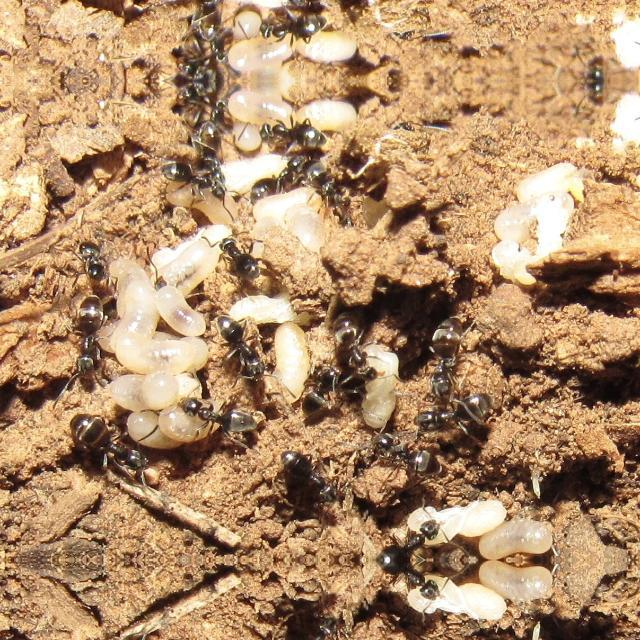Tapinoma: (58, 406, 164, 482), (54, 291, 118, 383), (412, 310, 476, 398), (268, 441, 352, 507), (204, 308, 272, 384), (170, 386, 264, 438), (303, 156, 365, 230), (408, 386, 502, 434), (324, 308, 384, 380), (367, 426, 448, 478), (172, 80, 236, 142), (172, 18, 236, 80), (156, 155, 234, 205), (368, 514, 450, 560), (368, 560, 450, 604), (208, 226, 272, 282), (292, 359, 348, 419), (247, 152, 310, 200), (254, 112, 328, 150), (254, 10, 328, 48), (66, 234, 114, 284), (268, 612, 350, 640), (388, 112, 458, 140), (388, 20, 458, 48), (582, 80, 616, 110), (582, 50, 616, 80)
